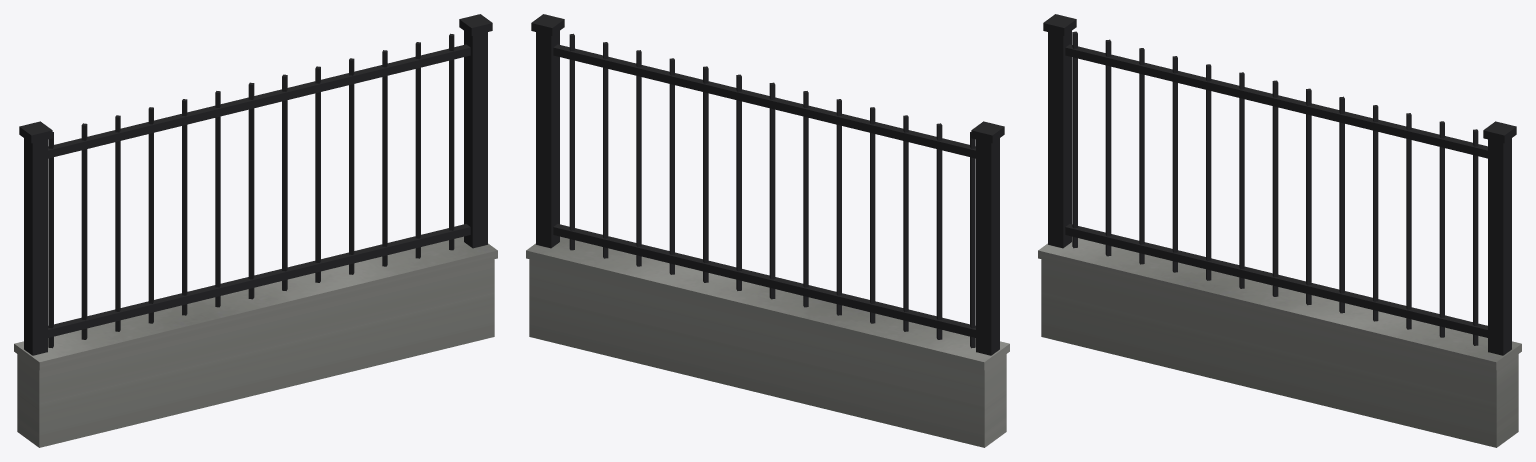
Rendered from valla_enrejado_lod2.glb.
3 renders of one model, left to right at view 1: azimuth 30°, elevation 25°; view 2: azimuth 150°, elevation 25°; view 3: azimuth 330°, elevation 25°, orthographic.
Parts seen in each view (by area): view 1: Pieza_MAT_Concreto, Pieza_MAT_Valla_Hierro_Negro; view 2: Pieza_MAT_Concreto, Pieza_MAT_Valla_Hierro_Negro; view 3: Pieza_MAT_Concreto, Pieza_MAT_Valla_Hierro_Negro.
Boxes of the visible parts, left/top/right/bottom form: Pieza_MAT_Concreto: left=14, top=236, right=497, bottom=447; Pieza_MAT_Valla_Hierro_Negro: left=19, top=14, right=492, bottom=355; Pieza_MAT_Concreto: left=526, top=236, right=1009, bottom=447; Pieza_MAT_Valla_Hierro_Negro: left=531, top=14, right=1004, bottom=355; Pieza_MAT_Concreto: left=1038, top=237, right=1521, bottom=447; Pieza_MAT_Valla_Hierro_Negro: left=1043, top=14, right=1516, bottom=355.
Bounding box in the file's own units: 3.04 × 1.95 × 0.29.
Materials: 2 (1 with a texture image).
